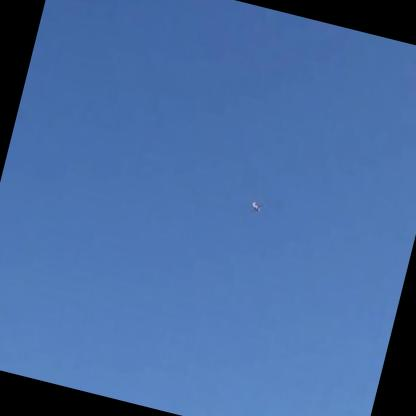plane: (250, 202, 264, 215)
